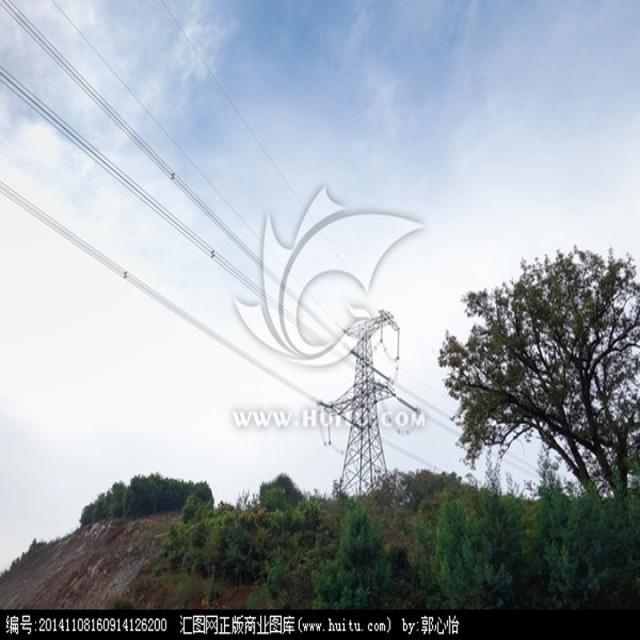non-critical vegetation: (320, 303, 403, 508)
